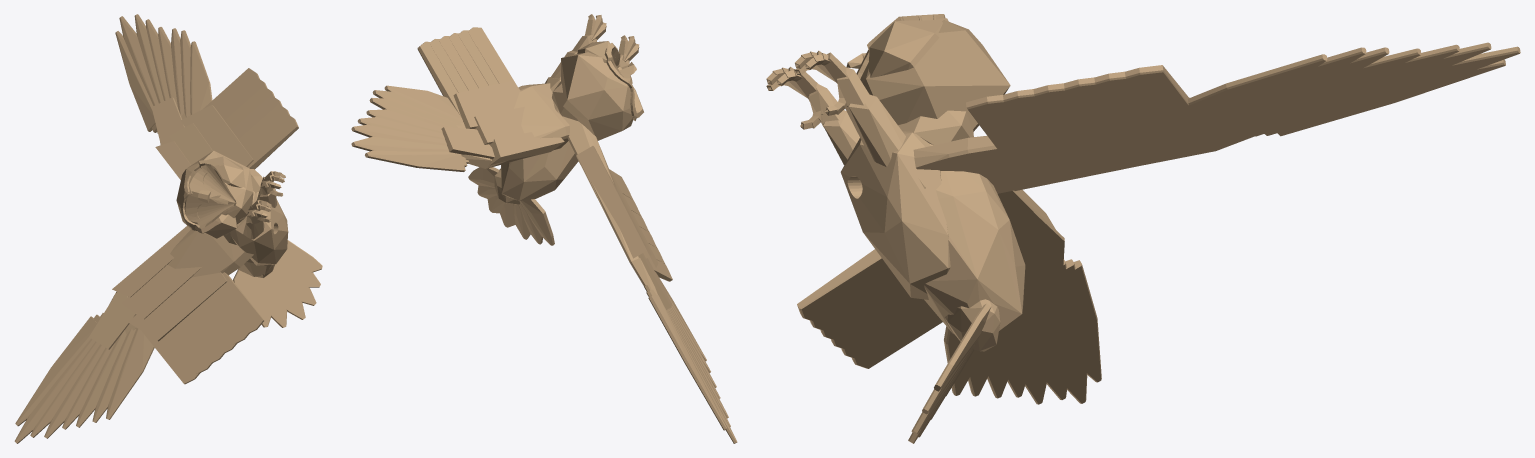
File: night_owls_owl.glb
The picture shows the model from 3 angles, left to right: view 1: azimuth 30°, elevation 25°; view 2: azimuth 150°, elevation 25°; view 3: azimuth 270°, elevation 25°; orthographic projection. The views are drawn at different scales.
Parts seen in each view (by area): view 1: Owl; view 2: Owl; view 3: Owl.
Boxes of the visible parts, x1,y1,x2,y2 form: Owl: (14, 14, 322, 443); Owl: (351, 14, 737, 443); Owl: (766, 14, 1520, 443).
Size of the model in its own units: 0.1696 by 0.181 by 0.2127.
